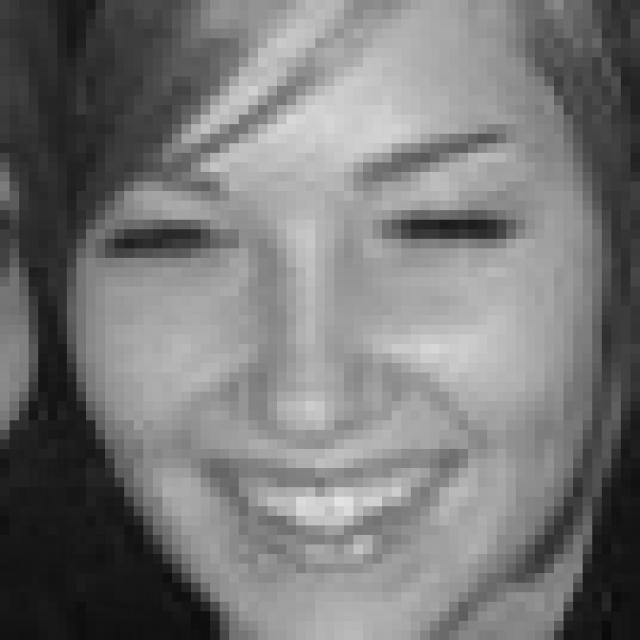real: (61, 0, 605, 640), (92, 183, 530, 277)
